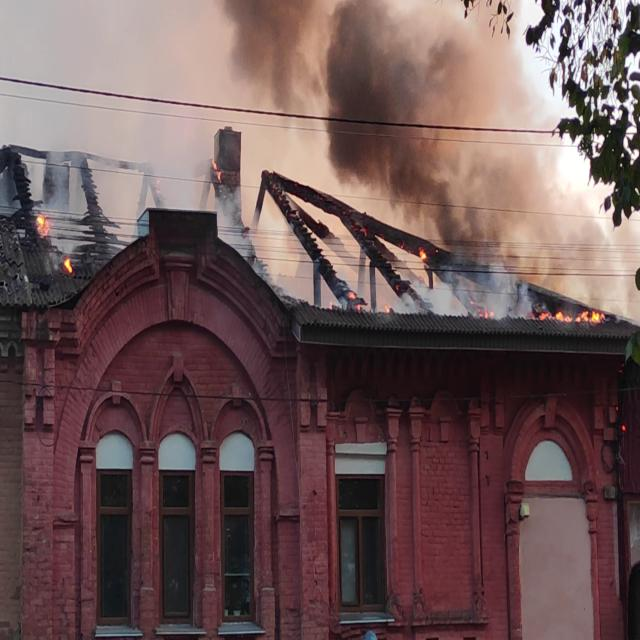fire: (532, 286, 610, 334)
smoke: (328, 8, 478, 258)
